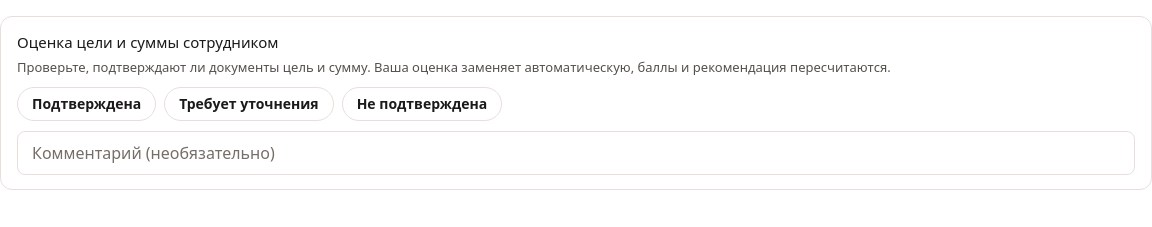
PurposeCheck › says why it was not saved
Click the button "Не подтверждена" at (422, 104), box [342,87,502,121]
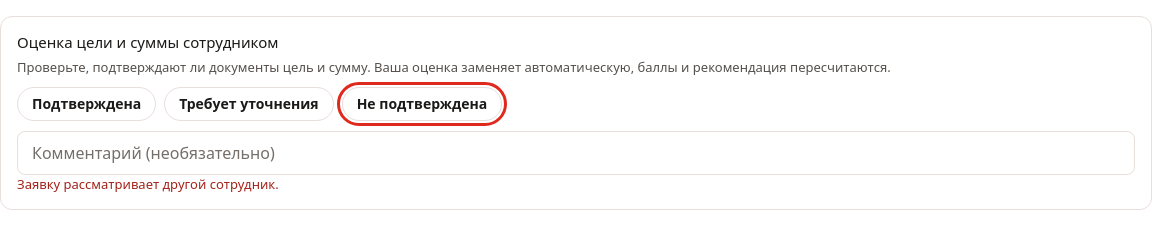
Now the message shows "другой сотрудник", box [17,175,279,193]
